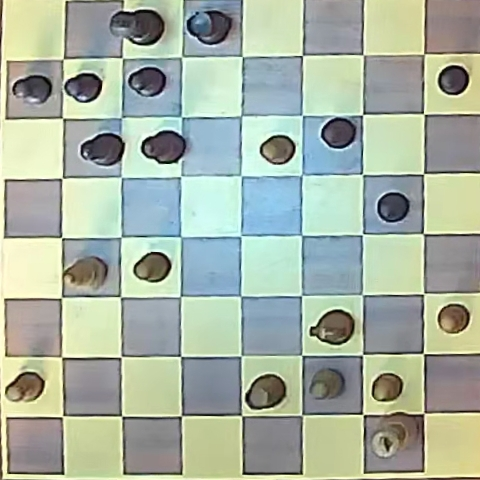black-bishop: (80, 132, 124, 166), (141, 131, 185, 164)
black-king: (110, 9, 164, 46)
black-pawn: (12, 74, 53, 105), (127, 66, 166, 97), (64, 72, 103, 102), (321, 118, 356, 149), (377, 192, 410, 222), (438, 65, 470, 95)
black-rook: (185, 10, 231, 46)
white-bishop: (63, 256, 106, 289)
white-king: (370, 413, 419, 459)
white-knight: (310, 310, 354, 345)
white-pawn: (5, 372, 45, 403), (134, 252, 171, 283), (309, 369, 343, 400), (260, 135, 295, 164), (437, 304, 469, 334), (372, 373, 403, 402)
white-rook: (246, 374, 286, 410)
